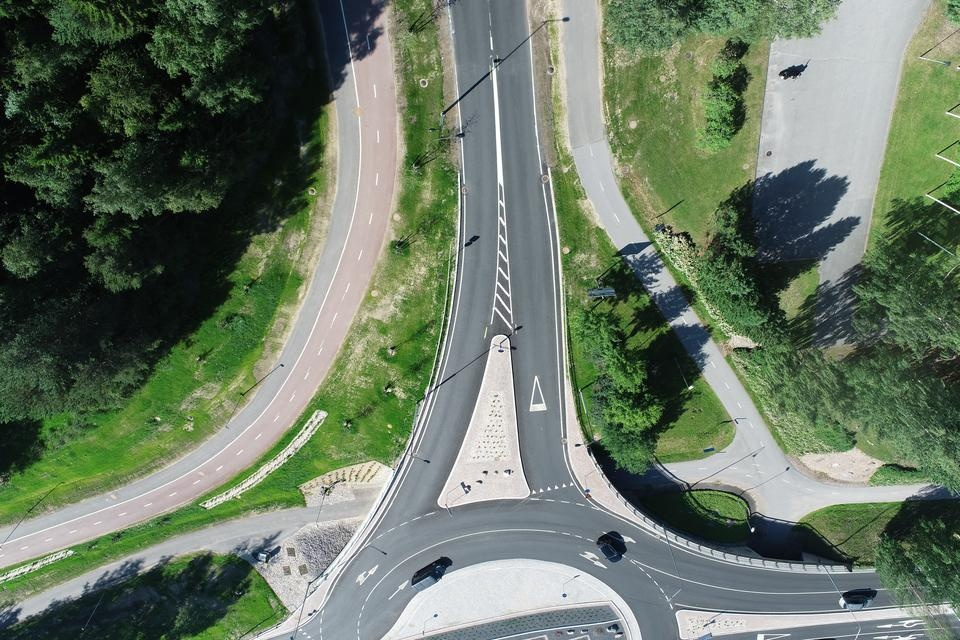roundabout: (232, 382, 723, 640)
